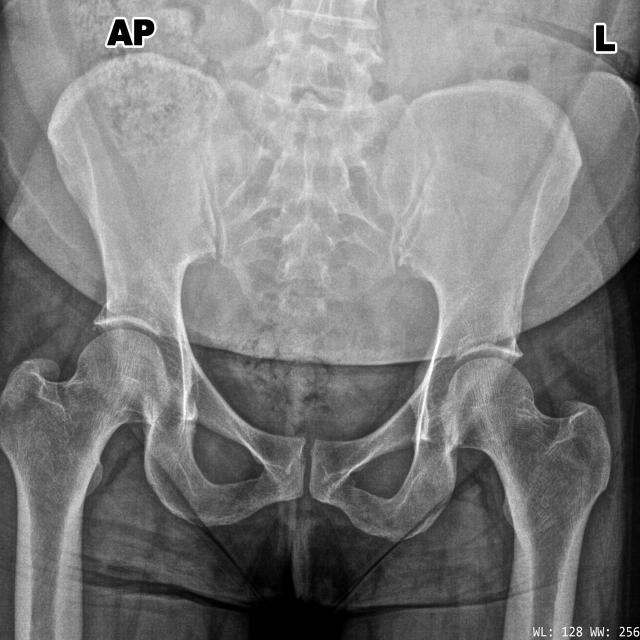normal-left: (443, 358, 612, 640)
normal-right: (0, 329, 170, 640)
